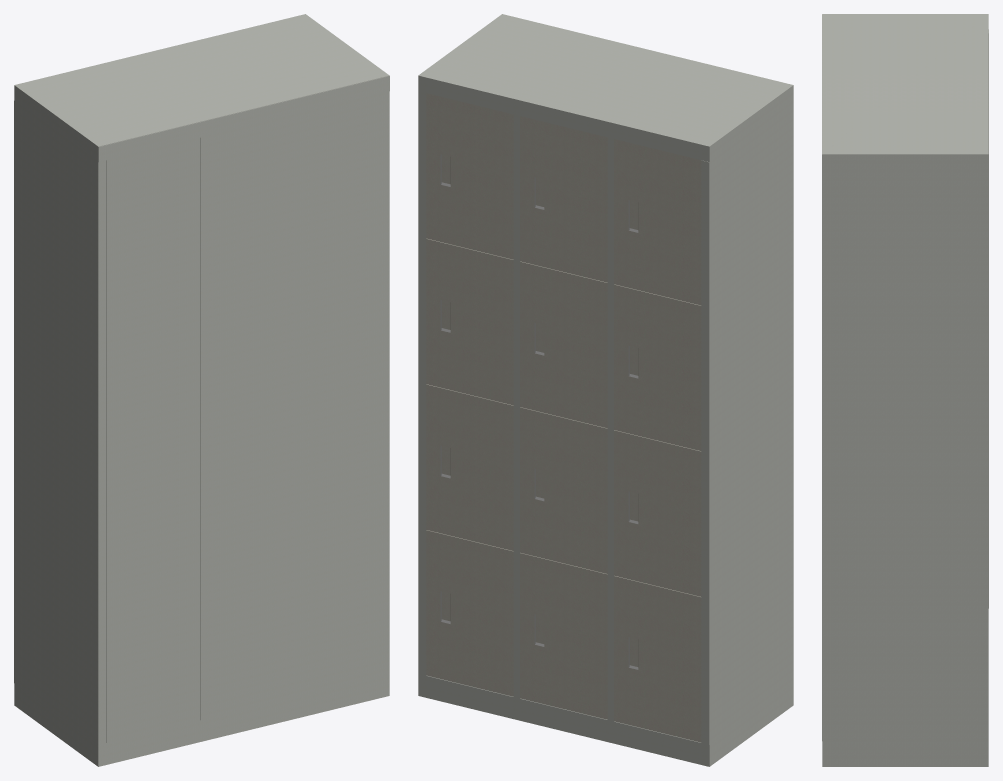
Rendered from locker.gltf.
The picture shows the model from 3 angles, left to right: view 1: azimuth 30°, elevation 25°; view 2: azimuth 150°, elevation 25°; view 3: azimuth 270°, elevation 25°; orthographic projection.
Parts seen in each view (by area): view 1: Structure; view 2: Locker (×12), Structure; view 3: Structure.
Boxes of the visible parts, <box> form: Structure: <box>14,14,389,766</box>; Locker (×12): <box>426,93,701,742</box>; Structure: <box>418,14,793,766</box>; Structure: <box>822,14,988,766</box>.
Size of the model in its own units: 0.9 by 1.83 by 0.452.
3 materials, 2 textured.
